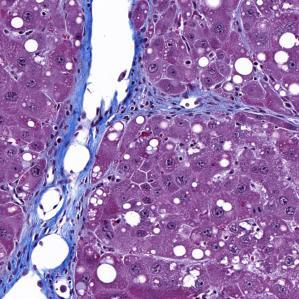fibrosis: (14, 203, 90, 293), (31, 104, 133, 167), (150, 86, 250, 123)
